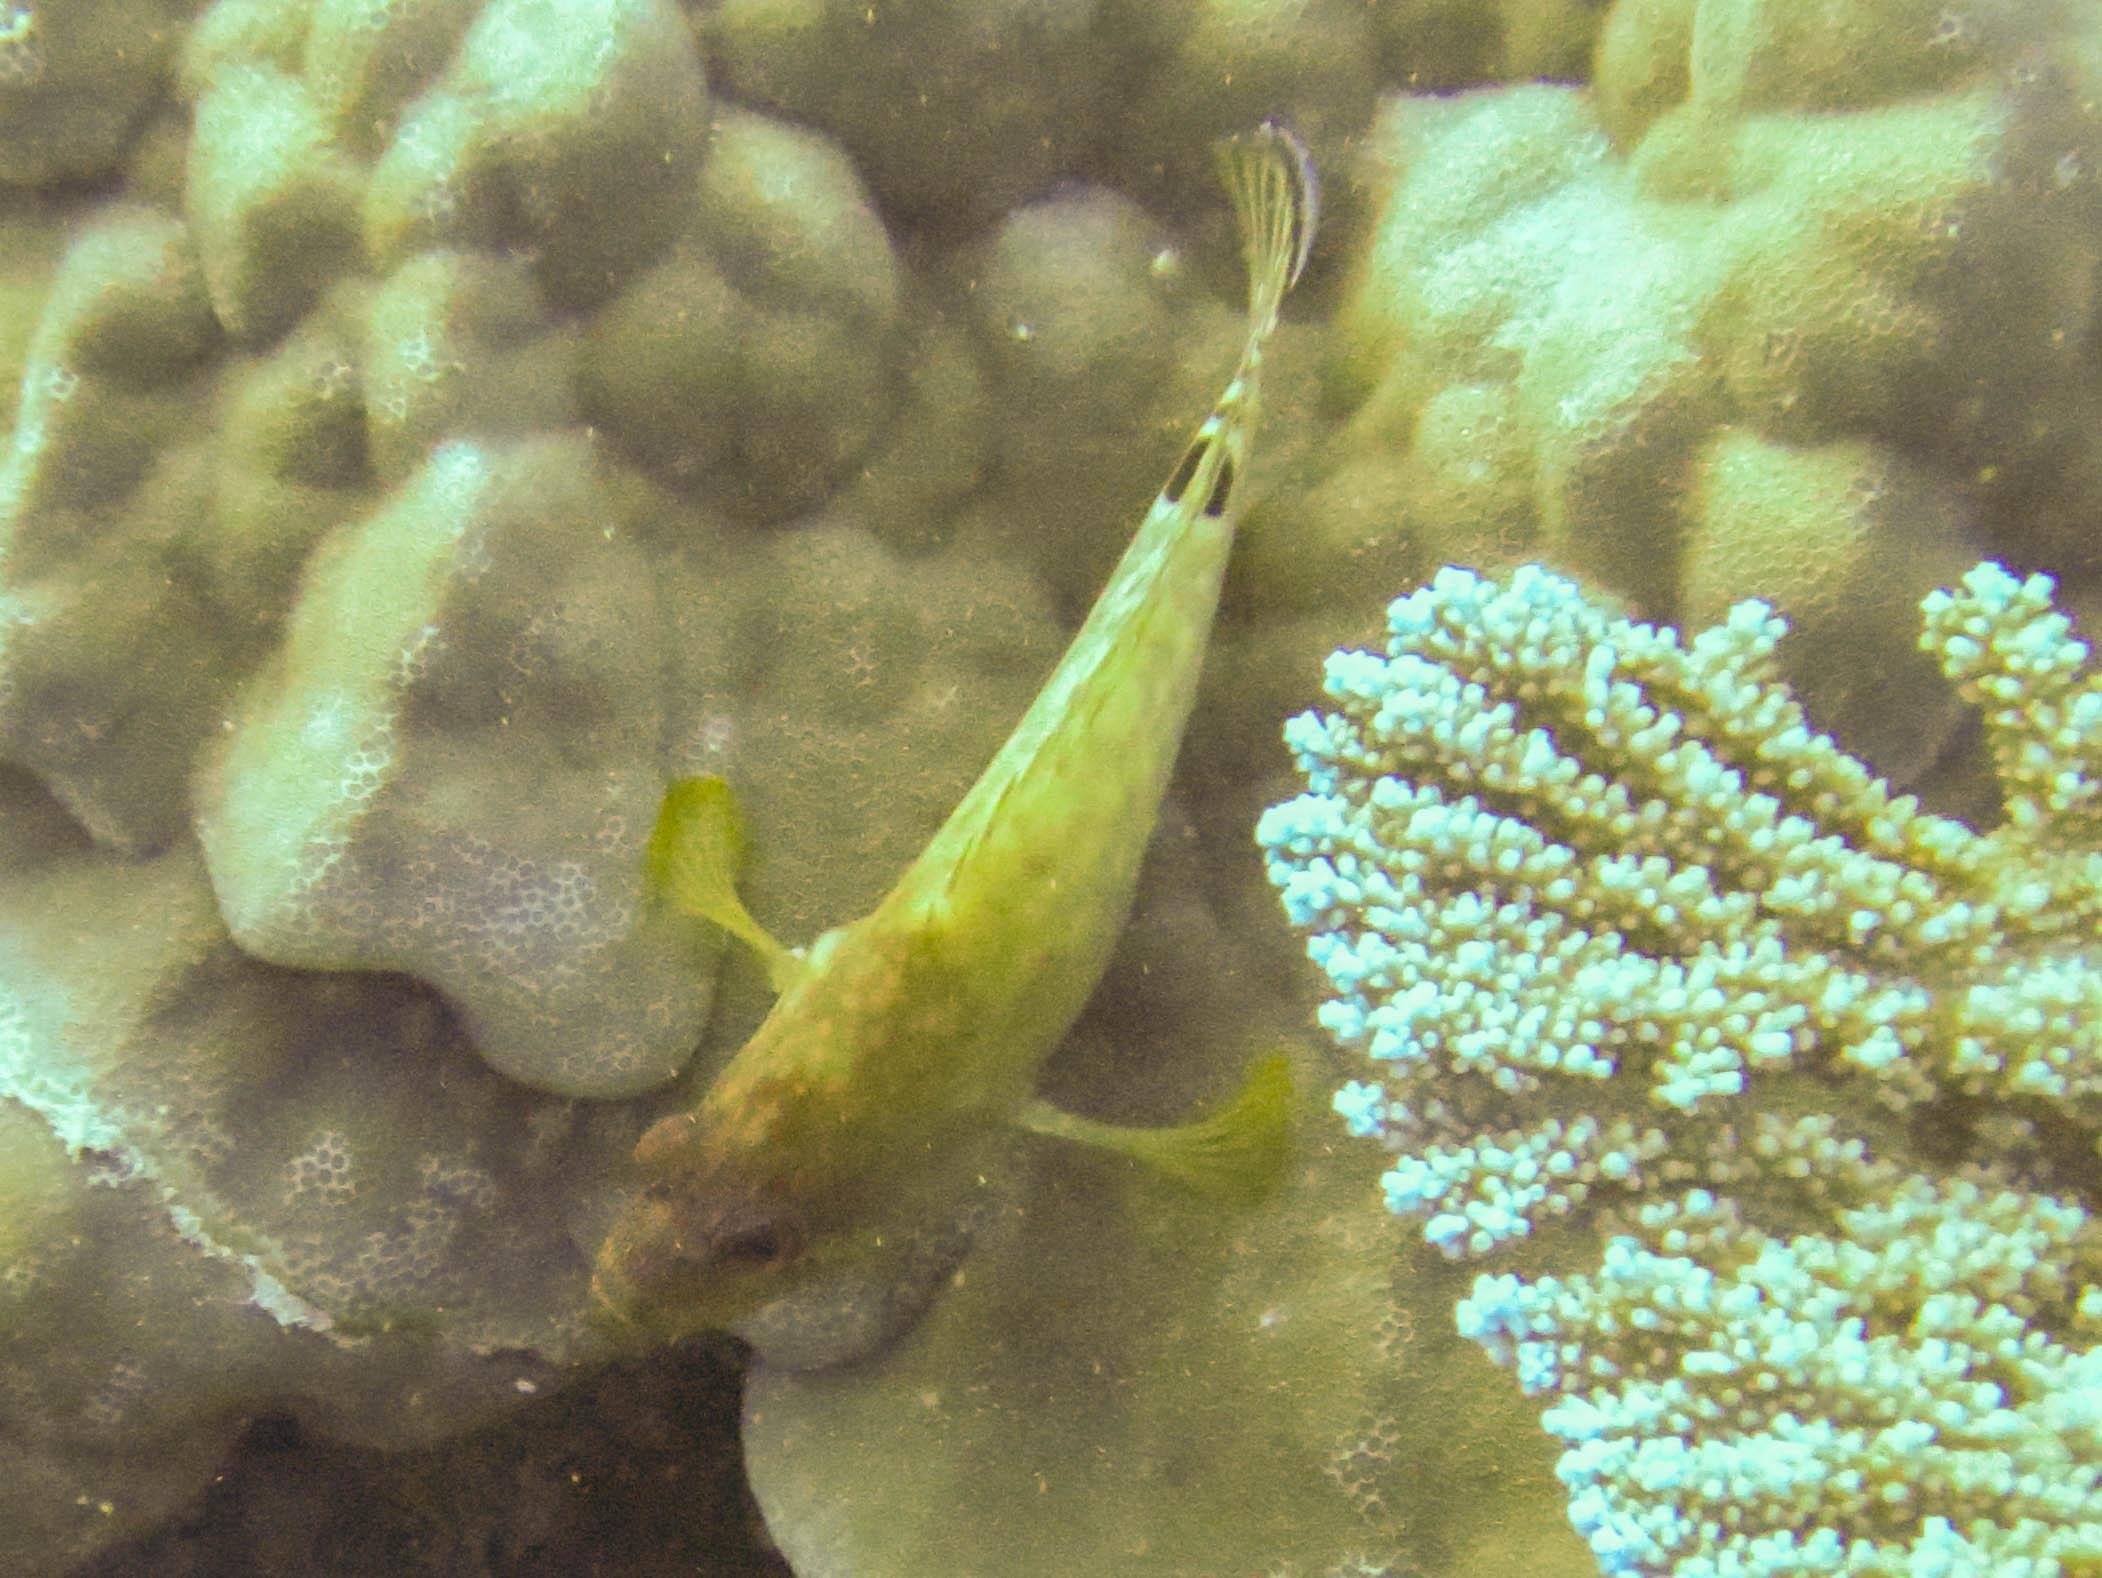Fish: (487, 108, 1479, 1432)
